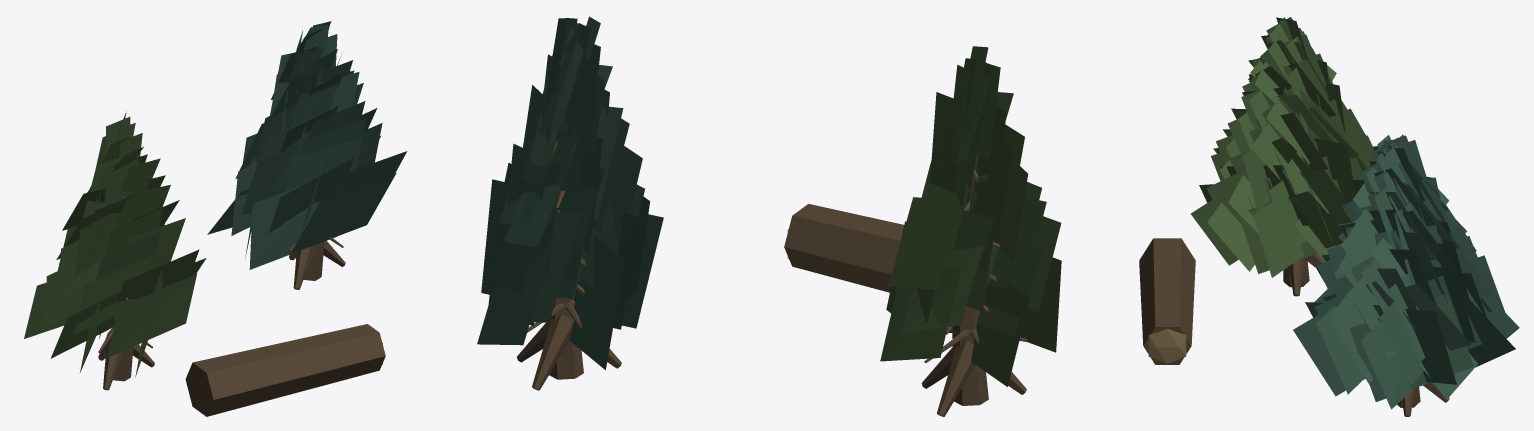
The model's file is small_timber_patch.glb.
3 views of the same model, side by side, from view 1: azimuth 30°, elevation 25°; view 2: azimuth 150°, elevation 25°; view 3: azimuth 270°, elevation 25° (orthographic). The views are drawn at different scales.
Visible parts, largest first — view 1: world-scenery/small_timber_patch; view 2: world-scenery/small_timber_patch; view 3: world-scenery/small_timber_patch.
Part boxes in pixels (box(x1,y1,x2,y2)): world-scenery/small_timber_patch: box(24, 21, 407, 416); world-scenery/small_timber_patch: box(477, 16, 1061, 416); world-scenery/small_timber_patch: box(1139, 17, 1519, 416).
Bounding box in the file's own units: 3.79 × 2.32 × 3.01.
